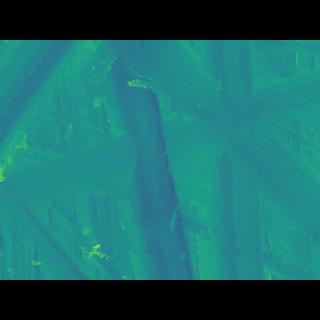Loch: (96, 69, 319, 226), (114, 97, 202, 252)
